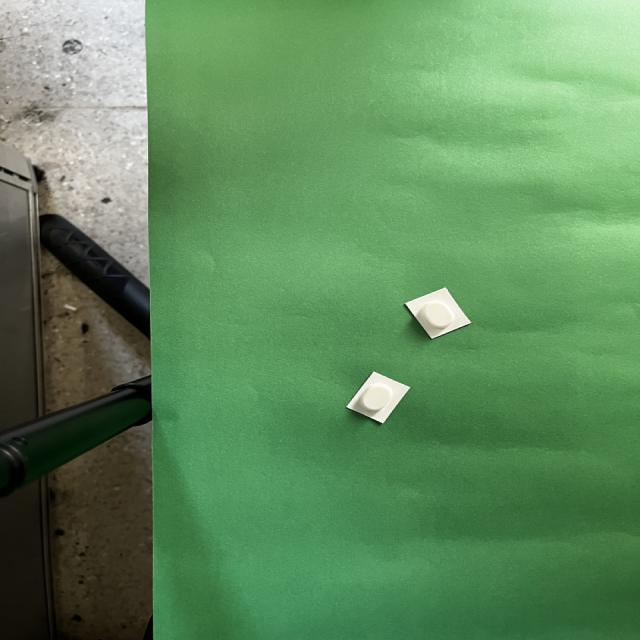Other Objects: (405, 288, 470, 338), (346, 372, 409, 423)
